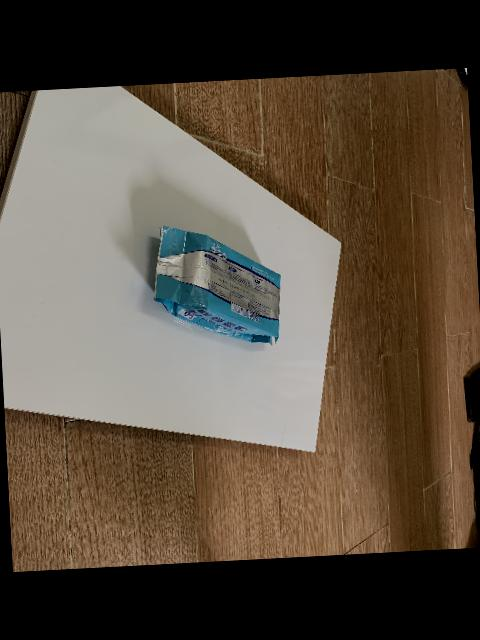Let-green_alcohol_wipes: (151, 225, 279, 345)
